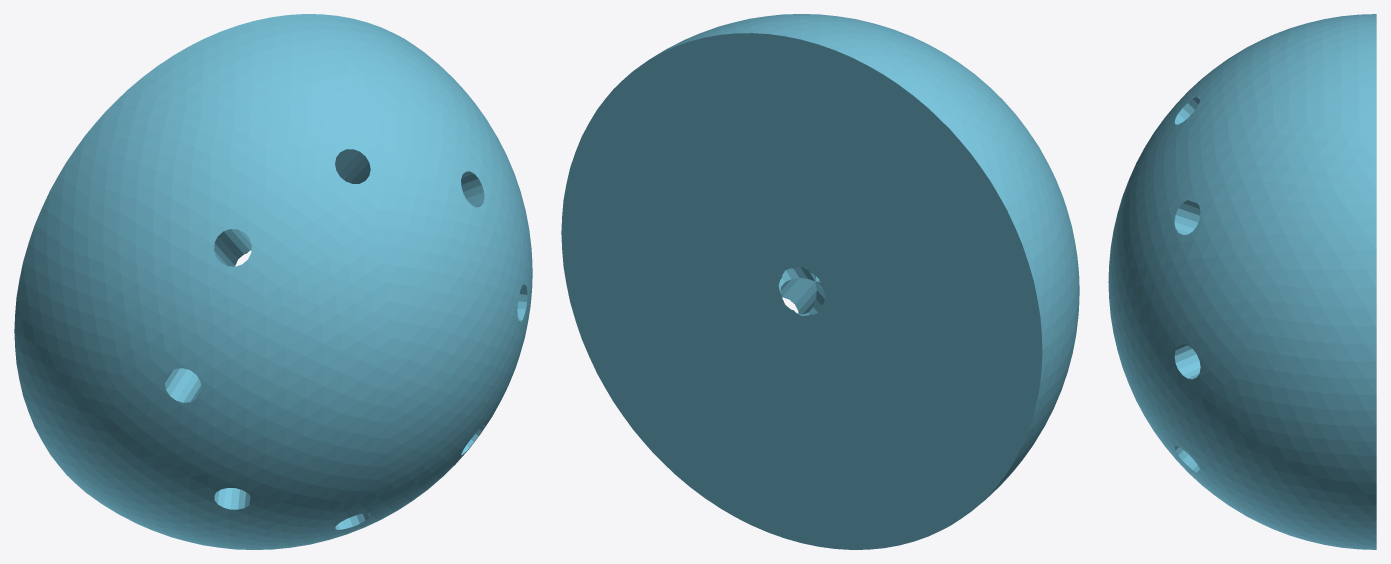
The model's file is directed_holes_demo.glb.
3 views of the same model, side by side, from view 1: azimuth 30°, elevation 25°; view 2: azimuth 150°, elevation 25°; view 3: azimuth 270°, elevation 25° (orthographic). The views are drawn at different scales.
Visible parts, largest first — view 1: perforated_dome; view 2: perforated_dome; view 3: perforated_dome.
Boxes of the visible parts, x1,y1,x2,y2 form: perforated_dome: [14, 14, 532, 549]; perforated_dome: [561, 14, 1079, 549]; perforated_dome: [1108, 14, 1376, 549].
Size of the model in its own units: 32 by 32 by 16.
